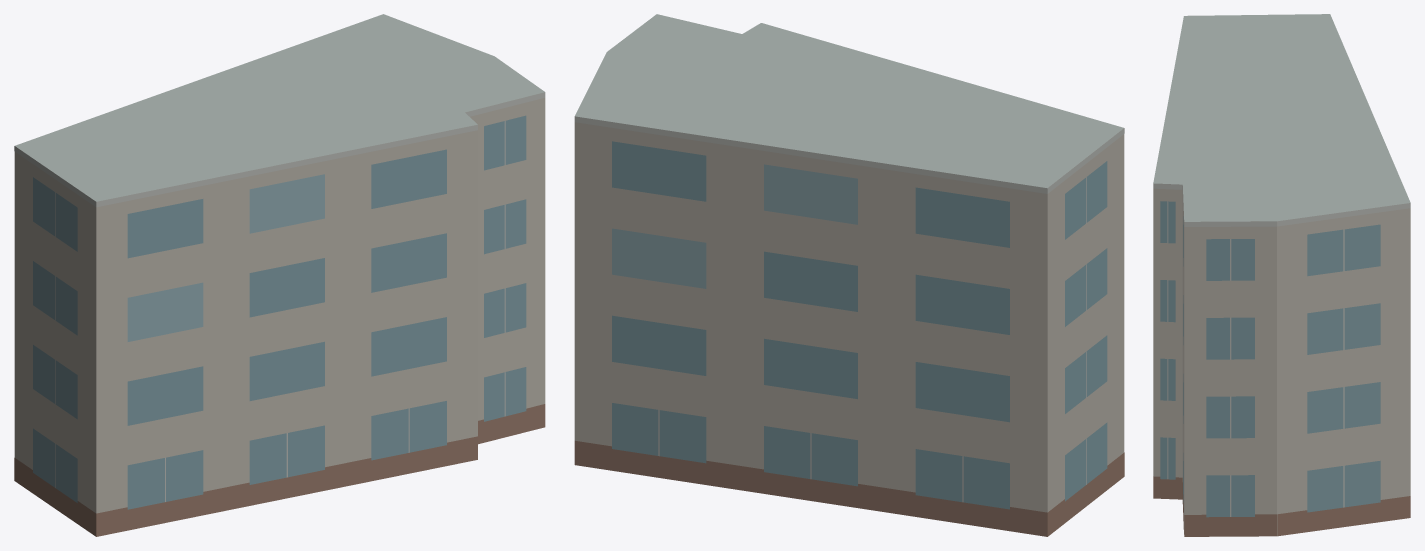
The model's file is survey-upis-32677595.glb.
3 renders of one model, left to right at view 1: azimuth 30°, elevation 25°; view 2: azimuth 150°, elevation 25°; view 3: azimuth 270°, elevation 25°, orthographic. The views are drawn at different scales.
Parts seen in each view (by area): view 1: survey-upis-32677595.tmp; view 2: survey-upis-32677595.tmp; view 3: survey-upis-32677595.tmp.
Boxes of the visible parts, x1,y1,x2,y2 form: survey-upis-32677595.tmp: [14, 14, 545, 536]; survey-upis-32677595.tmp: [574, 14, 1124, 536]; survey-upis-32677595.tmp: [1153, 14, 1410, 536].
Bounding box in the file's own units: 20.82 × 14.7 × 10.9.
